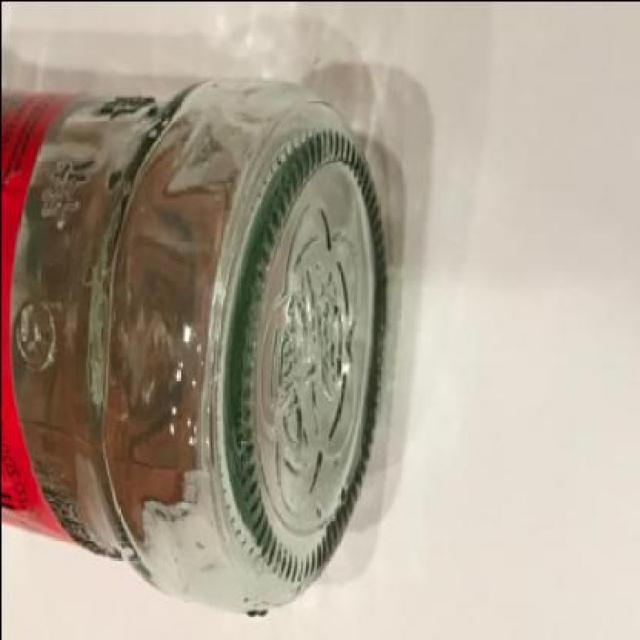glass: (2, 48, 386, 617)
